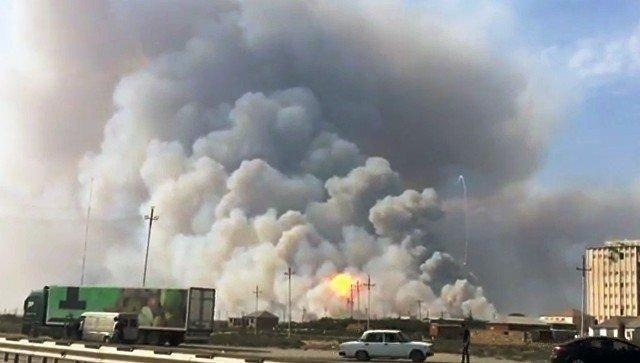fire: (327, 271, 361, 298)
